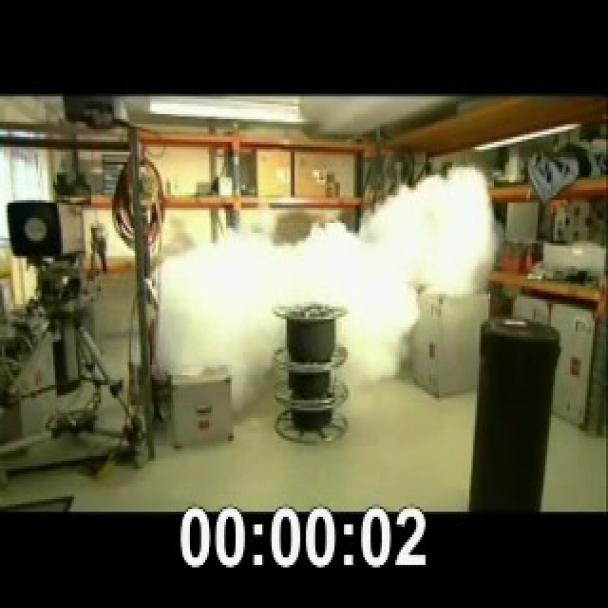smoke: (122, 170, 523, 421)
